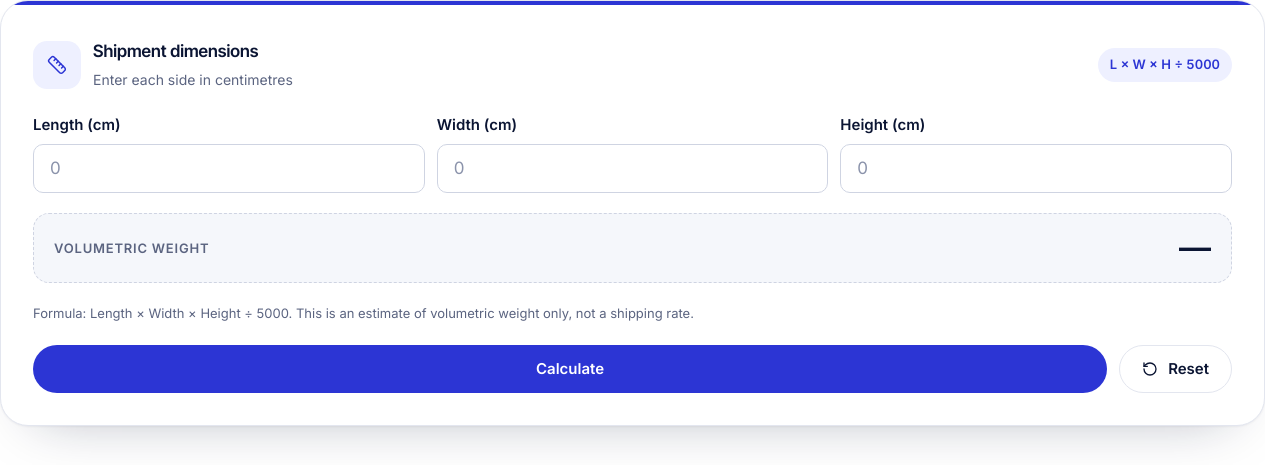
Test: <VolumeCalculator> › shows 12.00 kg for 50 × 40 × 30 cm
The image size is (1280, 465).
Type "50" into the field labelled "Length (cm)" at [229, 168], box [33,144,425,193]
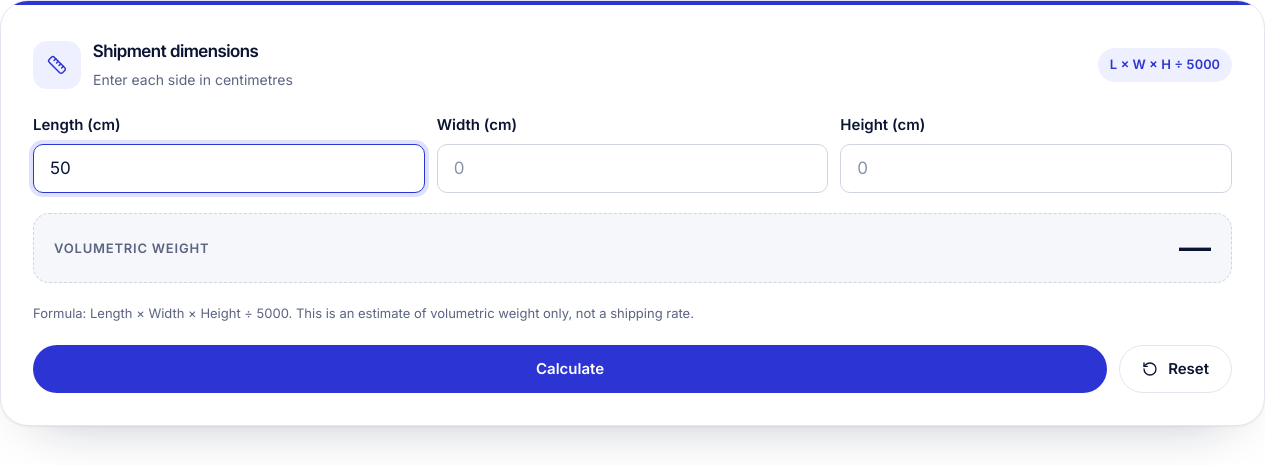
Type "40" into the field labelled "Width (cm)" at [633, 168], box [437,144,828,193]
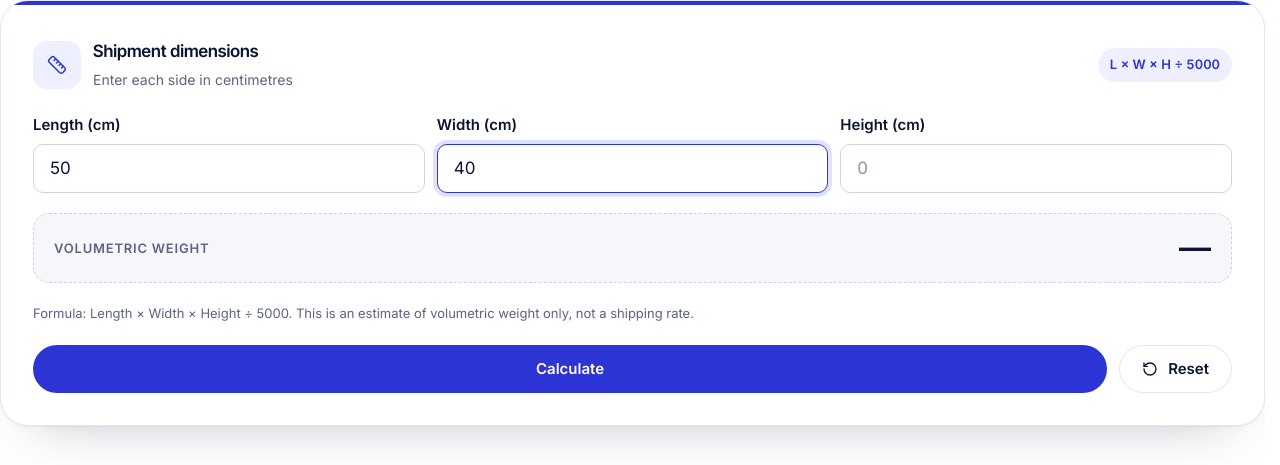
Type "30" into the field labelled "Height (cm)" at [1036, 168], box [840,144,1232,193]
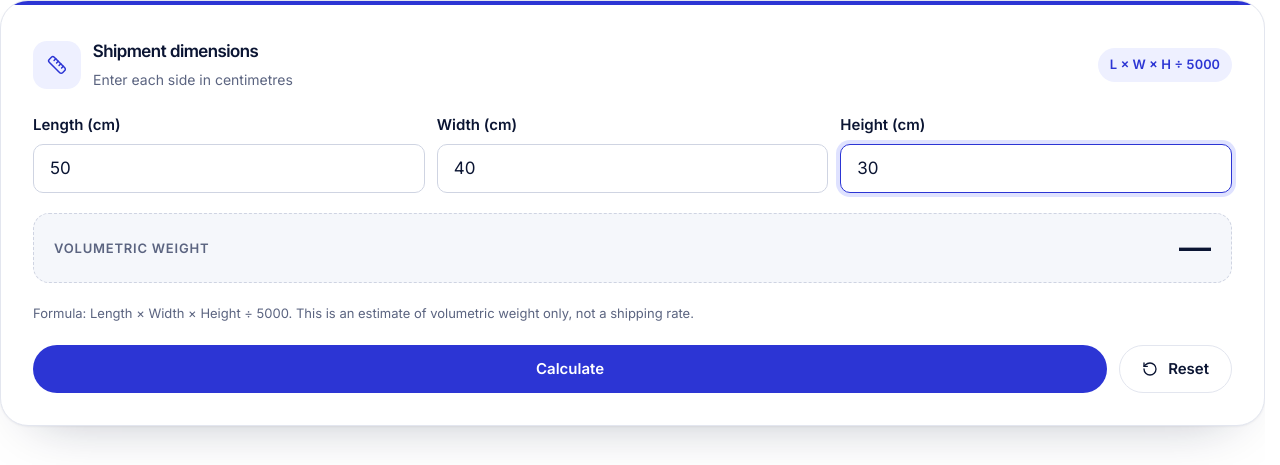
Click the button "Calculate" at [570, 369], box [33,345,1107,393]
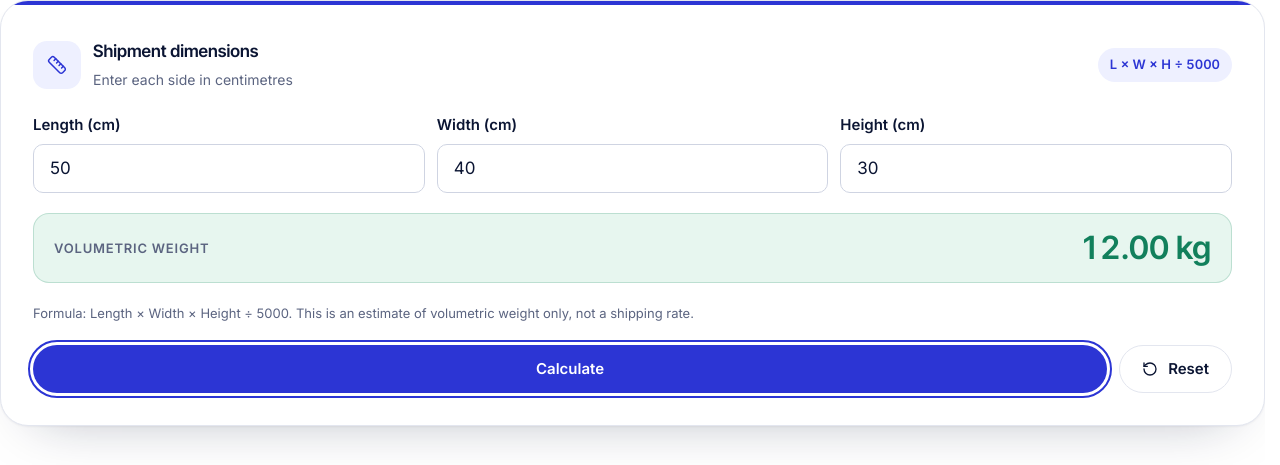
Result: the text "12.00 kg" is shown at [1080,232,1211,264]
